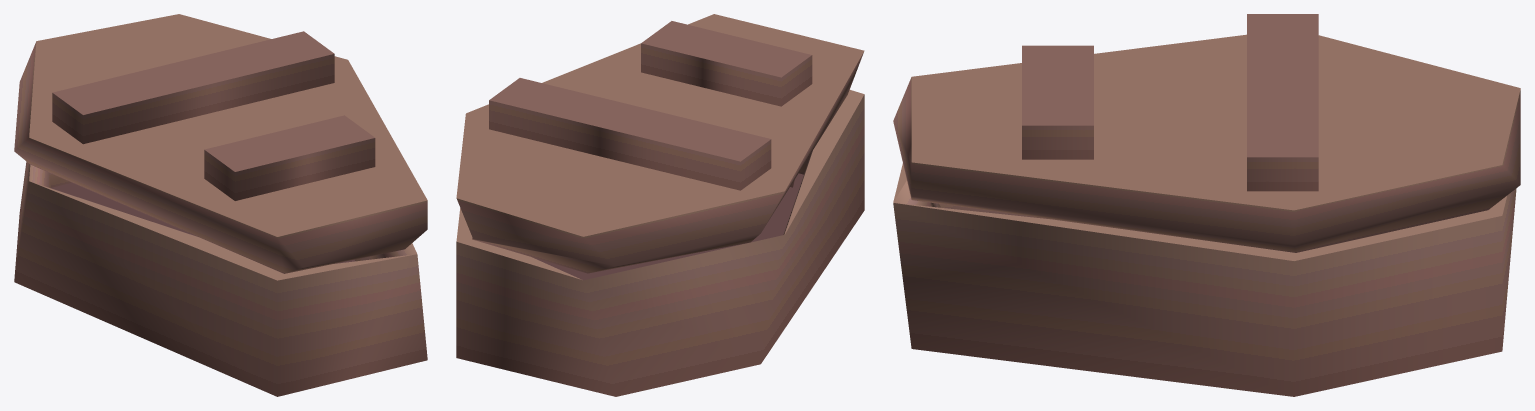
File: coffin.glb
3 views of the same model, side by side, from view 1: azimuth 30°, elevation 25°; view 2: azimuth 150°, elevation 25°; view 3: azimuth 270°, elevation 25° (orthographic). The views are drawn at different scales.
Visible parts, largest first — view 1: lid, coffin; view 2: lid, coffin; view 3: lid, coffin.
Part boxes in pixels (box(x1,y1,x2,y2)): lid: box(14, 14, 427, 273); coffin: box(14, 161, 427, 396); lid: box(456, 14, 864, 273); coffin: box(456, 90, 864, 396); lid: box(893, 14, 1520, 252); coffin: box(893, 163, 1516, 396).
Size of the model in its own units: 0.5738 by 0.3248 by 0.8378.
1 material, 1 textured.
